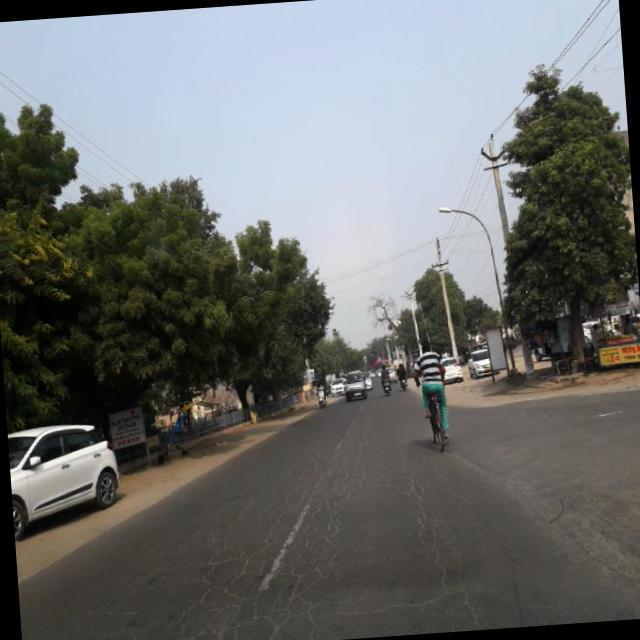crack: (162, 455, 473, 640)
